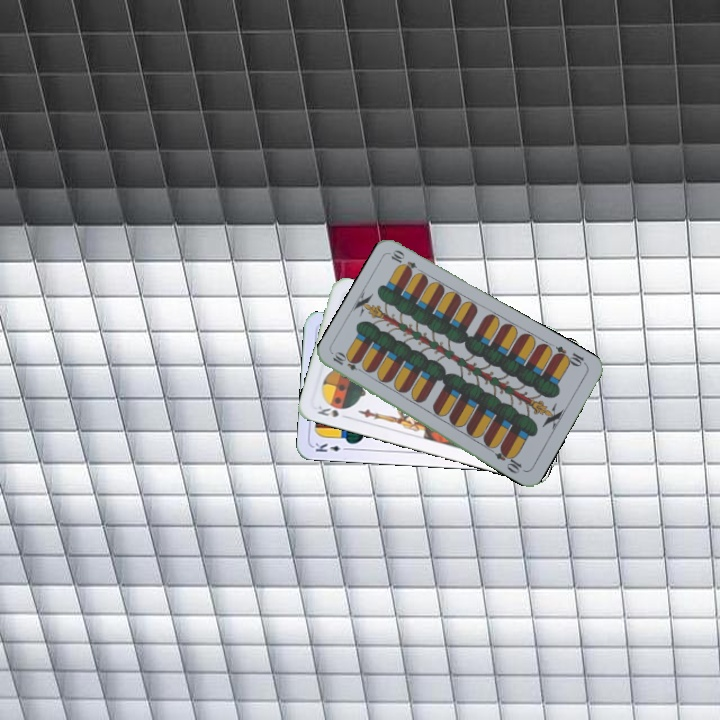E10: (550, 342, 589, 370), (329, 349, 367, 376)
EK: (311, 438, 351, 454)
SK: (312, 400, 350, 420)
